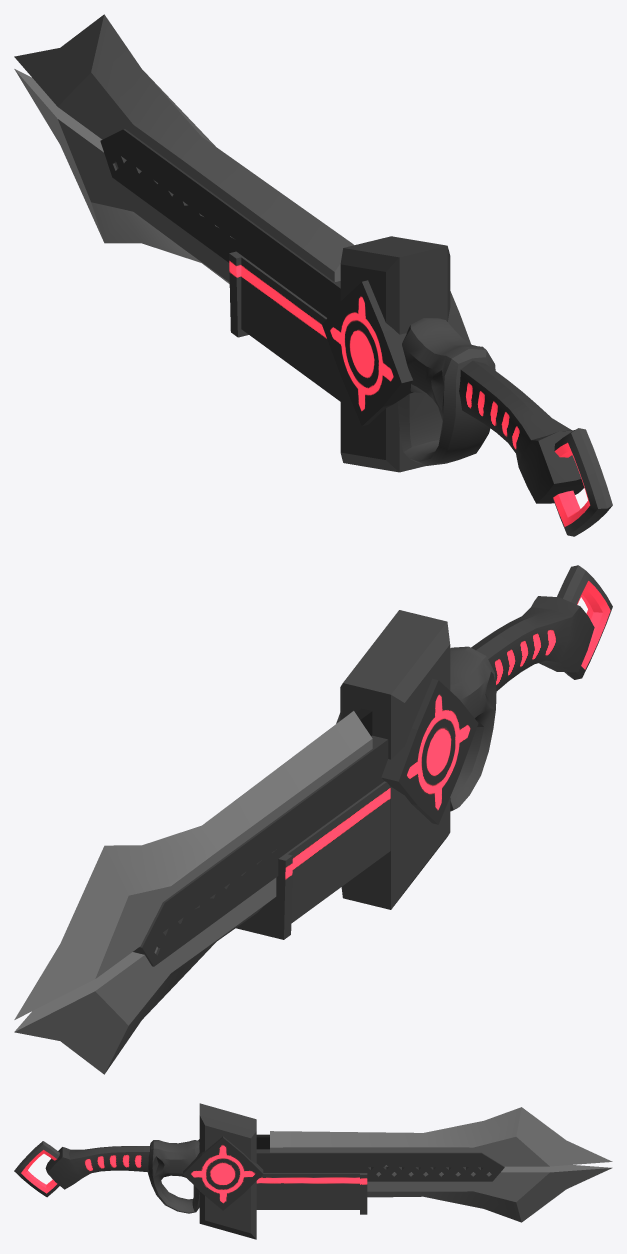
Rendered from МЕЧ рыцарь.fbx.
3 views of the same model, one above another, from view 1: azimuth 30°, elevation 25°; view 2: azimuth 150°, elevation 25°; view 3: azimuth 270°, elevation 25° (orthographic). The views are drawn at different scales.
Visible parts, largest first — view 1: Куб.003, Куб.005, Куб, Куб.007, Куб.002, Куб.006, Плоскость; view 2: Куб.003, Куб.005, Куб, Куб.007, Куб.006, Куб.002, Плоскость; view 3: Куб.003, Куб.005, Куб.006, Куб.007, Куб, Куб.002, Плоскость, Куб.004.
Boxes of the visible parts, bbox=[...] form: Куб.003: bbox=[229, 251, 584, 503]; Куб.005: bbox=[14, 14, 353, 281]; Куб: bbox=[340, 236, 450, 472]; Куб.007: bbox=[100, 129, 340, 317]; Куб.002: bbox=[397, 318, 495, 465]; Куб.006: bbox=[14, 69, 229, 283]; Плоскость: bbox=[553, 428, 612, 536]; Куб.003: bbox=[236, 596, 594, 939]; Куб.005: bbox=[14, 711, 372, 1019]; Куб: bbox=[340, 610, 450, 909]; Куб.007: bbox=[133, 735, 388, 966]; Куб.006: bbox=[14, 877, 276, 1074]; Куб.002: bbox=[450, 646, 496, 811]; Плоскость: bbox=[557, 565, 612, 679]; Куб.003: bbox=[45, 1136, 367, 1214]; Куб.005: bbox=[270, 1107, 612, 1166]; Куб.006: bbox=[367, 1165, 612, 1222]; Куб.007: bbox=[256, 1149, 504, 1181]; Куб: bbox=[199, 1103, 256, 1239]; Куб.002: bbox=[147, 1140, 200, 1213]; Плоскость: bbox=[14, 1141, 59, 1197]; Куб.004: bbox=[256, 1134, 269, 1149].
Bounding box in the file's own units: 68.4 × 213 × 913.
Materials: 6 (1 with a texture image).
